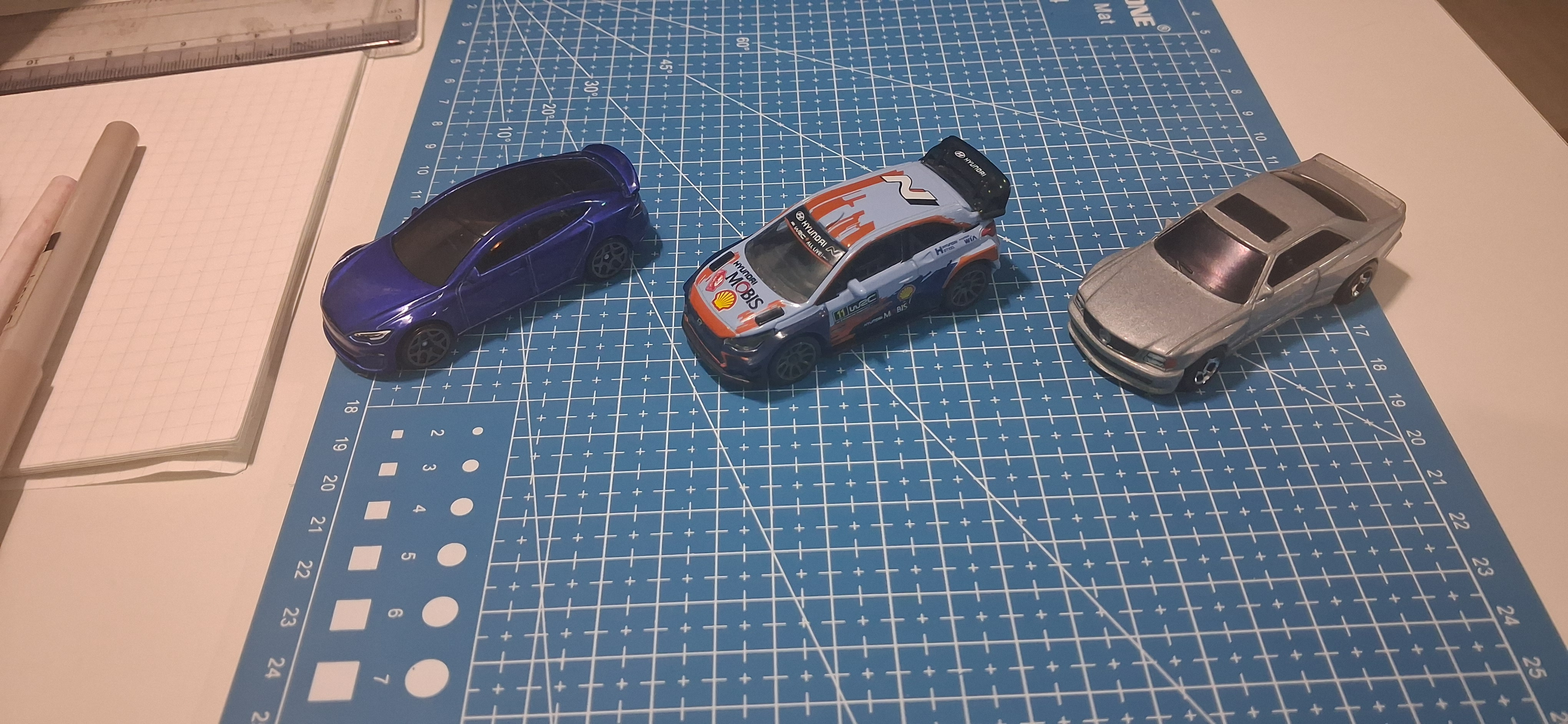Hyundai_I20_WRC: (667, 114, 1020, 434)
Mercedes_Benz_560_SEC_AMG: (1045, 107, 1424, 440)
Tesla_Model_S_Plaid: (303, 97, 650, 423)
